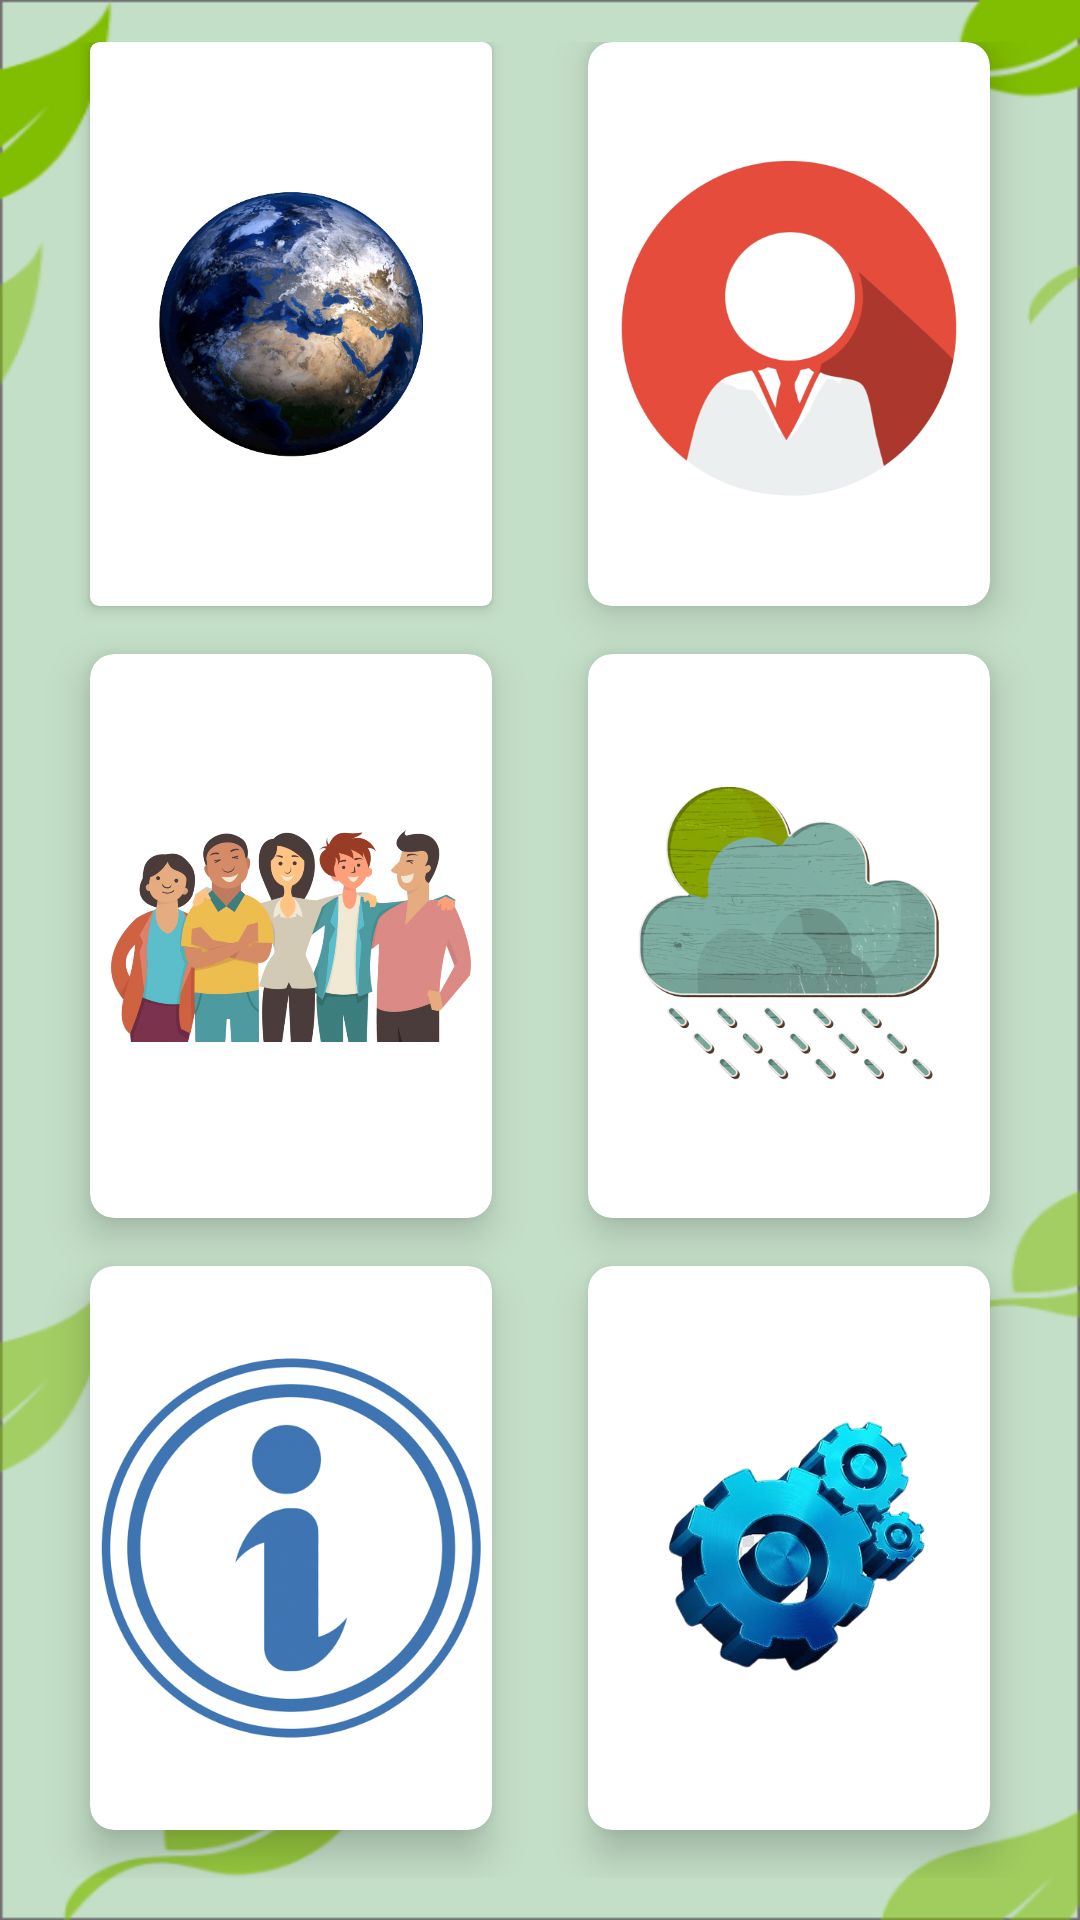

Icon click points for this 1080px x 1920px phone screenshot, format [x,y]:
earth: [291,324]
friends: [291,936]
profile: [789,313]
settings: [797,1546]
weather: [789,933]
